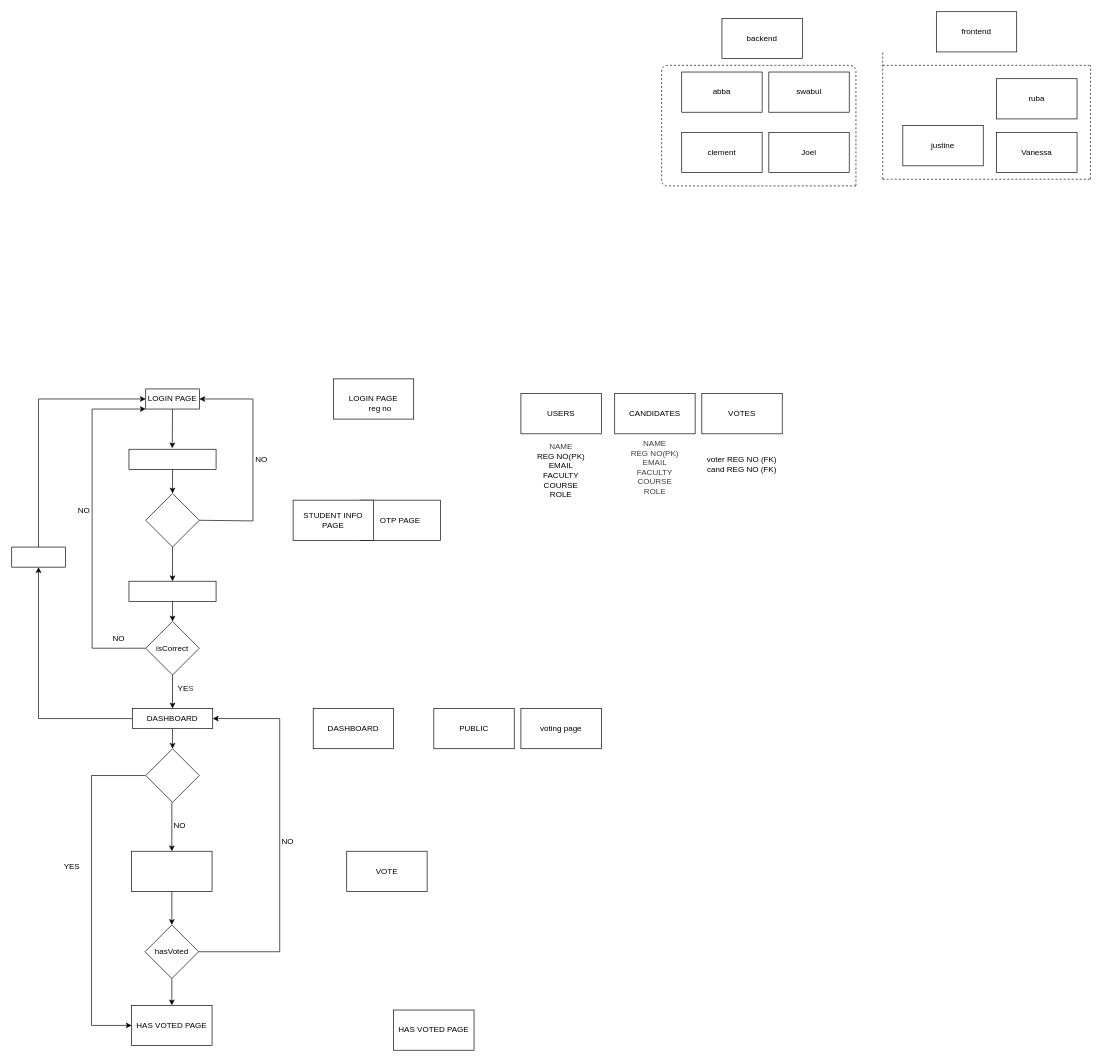
The diagram is 1103 pixels wide and 1062 high, and some of its shapes have lost their labels. Each missing label, with the centre of its shape:
AUTHENTICATION: (172,459)
HAS VOTED: (172,775)
isVerified: (172,520)
LOGOUT: (38,556)
OTP TO STUDENT EMAIL: (172,591)
VOTE SECTION: (171,871)
